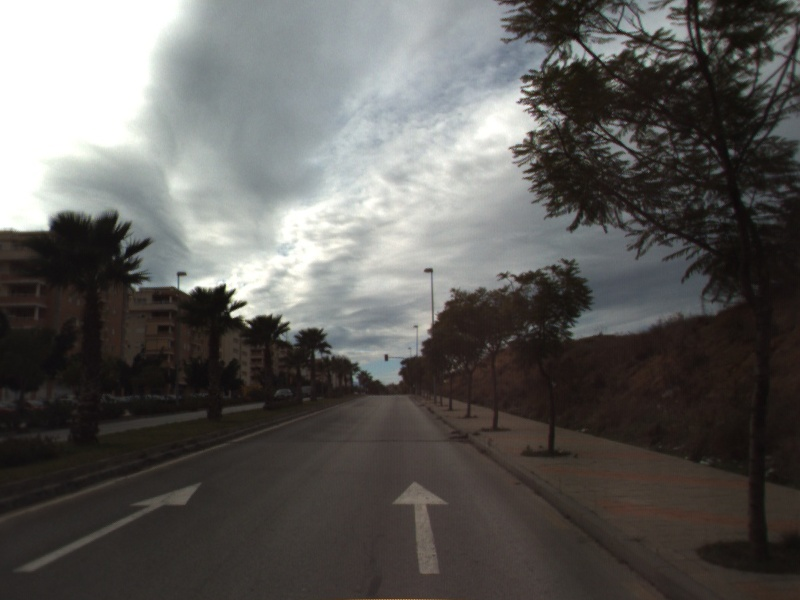STRAIGHT: (10, 480, 205, 575), (390, 479, 451, 576)
